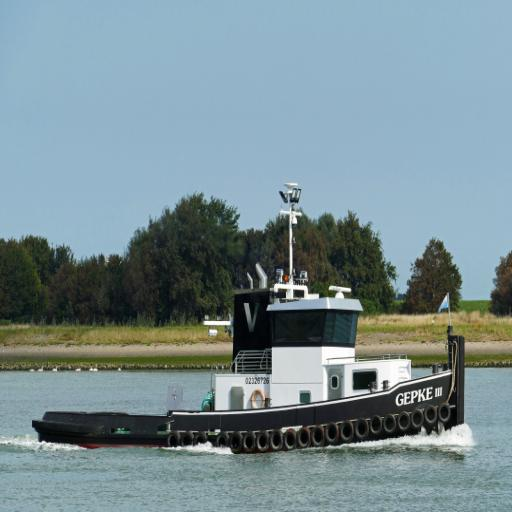tugboat: (29, 181, 470, 464)
